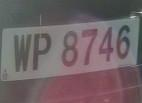4: (97, 22, 116, 65)
6: (115, 23, 133, 65)
7: (79, 24, 101, 68)
8: (58, 25, 80, 75)
P: (30, 28, 54, 79)
W: (10, 30, 33, 79)
